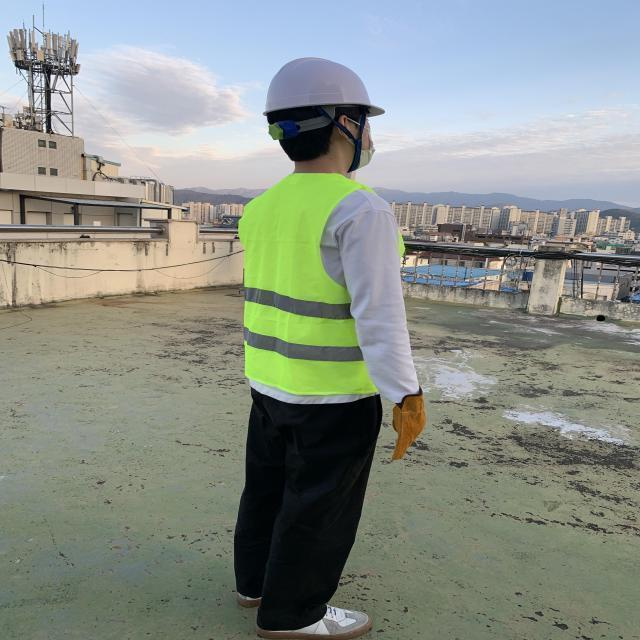gloves: (381, 392, 425, 476)
helmet: (256, 53, 392, 129)
safety_vest: (245, 172, 378, 406)
